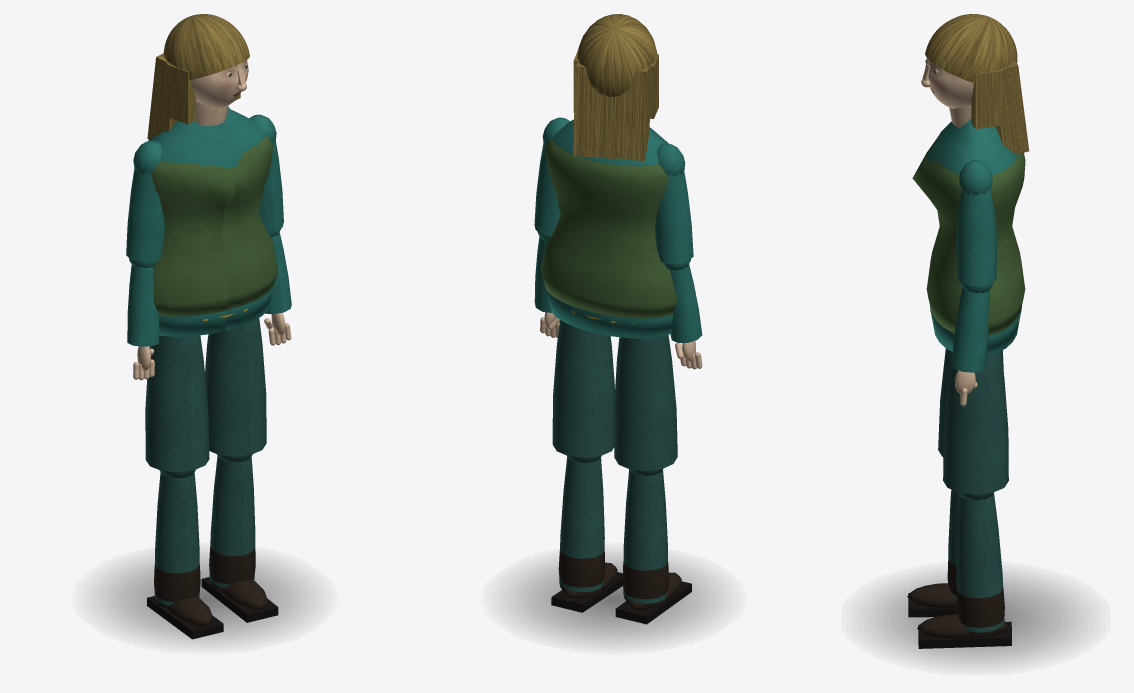
File: npc_grower.glb
3 renders of one model, left to right at view 1: azimuth 30°, elevation 25°; view 2: azimuth 150°, elevation 25°; view 3: azimuth 270°, elevation 25°, orthographic. The views are drawn at different scales.
Parts seen in each view (by area): view 1: chest, object 11, head, legL, shinL, shinR, legR, armL, foreL, foreR, armR; view 2: chest, head, object 11, legL, legR, shinL, shinR, armL, foreL, armR, foreR; view 3: chest, object 11, head, shinR, legR, armR, foreR, shinL, legL.
Boxes of the visible parts, left/top/right/bottom form: chest: left=148, top=101, right=277, bottom=336; object 11: left=98, top=553, right=311, bottom=643; head: left=147, top=14, right=249, bottom=139; legL: left=145, top=335, right=209, bottom=472; shinL: left=147, top=469, right=223, bottom=639; shinR: left=201, top=454, right=278, bottom=622; legR: left=205, top=318, right=266, bottom=456; armL: left=126, top=140, right=164, bottom=261; foreL: left=127, top=257, right=159, bottom=380; foreR: left=264, top=228, right=291, bottom=345; armR: left=249, top=114, right=283, bottom=232; chest: left=540, top=119, right=677, bottom=338; head: left=573, top=14, right=658, bottom=161; object 11: left=508, top=554, right=720, bottom=643; legL: left=614, top=335, right=677, bottom=471; legR: left=552, top=320, right=614, bottom=457; shinL: left=615, top=469, right=691, bottom=624; shinR: left=551, top=455, right=622, bottom=612; armL: left=654, top=143, right=693, bottom=263; foreL: left=664, top=259, right=702, bottom=369; armR: left=534, top=117, right=569, bottom=235; foreR: left=534, top=231, right=559, bottom=337; chest: left=912, top=105, right=1025, bottom=355; object 11: left=868, top=574, right=1083, bottom=663; head: left=921, top=14, right=1029, bottom=154; shinR: left=917, top=492, right=1011, bottom=648; legR: left=943, top=351, right=1008, bottom=494; armR: left=956, top=160, right=996, bottom=285; foreR: left=951, top=283, right=992, bottom=406; shinL: left=907, top=489, right=958, bottom=617; legL: left=938, top=348, right=1003, bottom=456.
Bounding box in the file's own units: 0.77 × 1.8 × 0.77.
6 materials, 5 textured.
